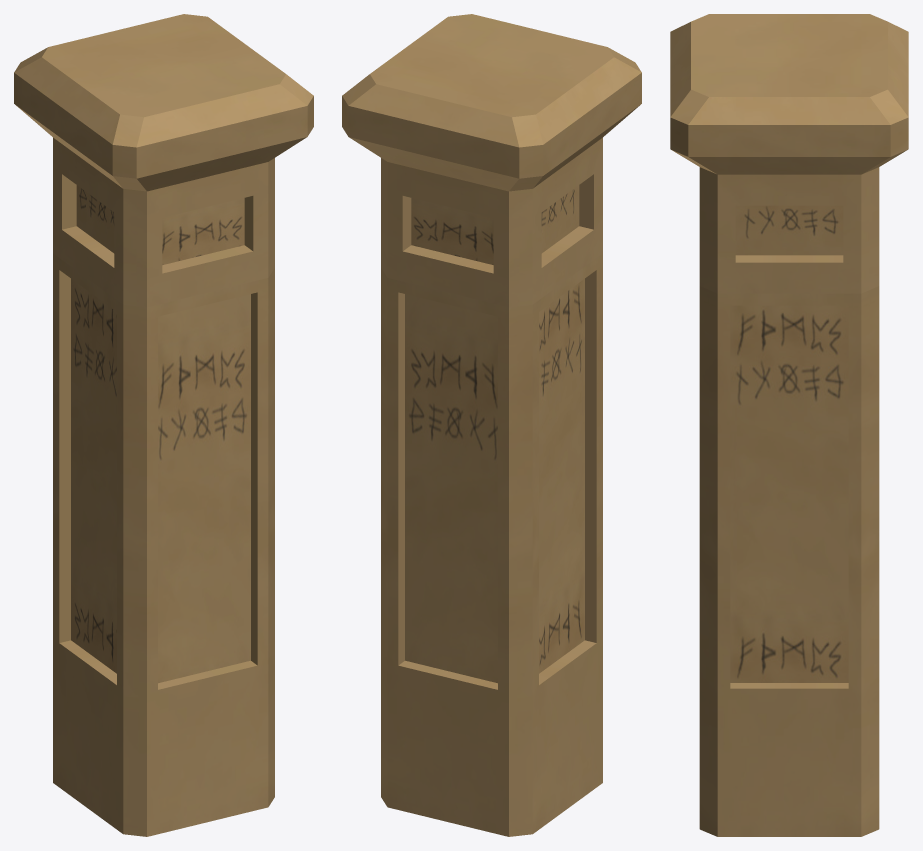
File: SandstonePillar.fbx
The picture shows the model from 3 angles, left to right: view 1: azimuth 30°, elevation 25°; view 2: azimuth 150°, elevation 25°; view 3: azimuth 270°, elevation 25°; orthographic projection. The views are drawn at different scales.
Parts seen in each view (by area): view 1: SandstonePillar; view 2: SandstonePillar; view 3: SandstonePillar.
Boxes of the visible parts, x1,y1,x2,y2 form: SandstonePillar: (14,14,313,836); SandstonePillar: (342,14,641,836); SandstonePillar: (670,14,908,836).
Size of the model in its own units: 1.33 by 4.56 by 1.33.
